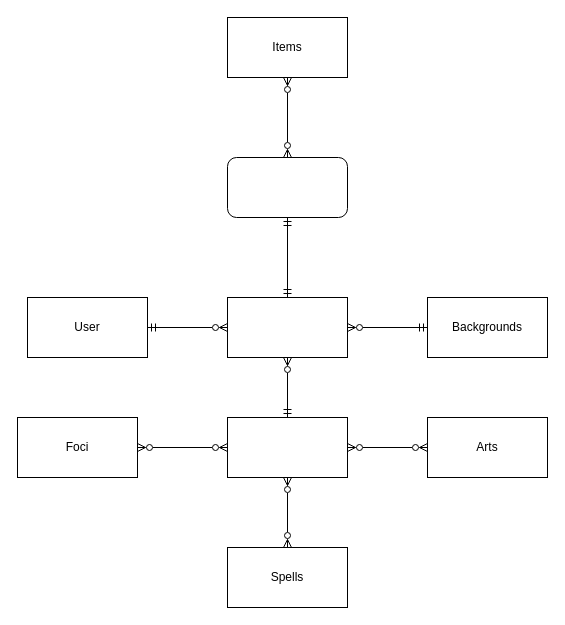
Some shapes in this 565 by 625 pixel diagram are drawn without their labels. Each missing label, with the centre of its shape:
Character: pixel 287 327
Class: pixel 287 447
Inventory: pixel 287 187
